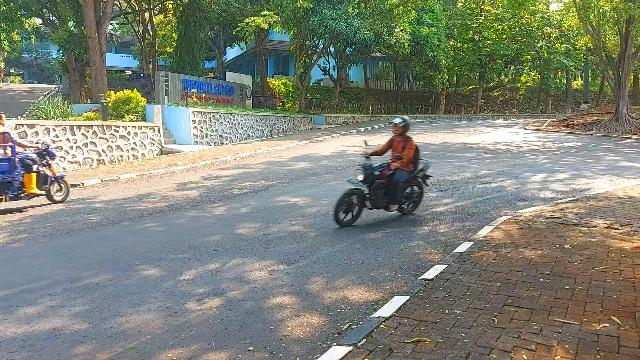helm: (390, 116, 411, 136)
motor: (335, 142, 433, 228)
